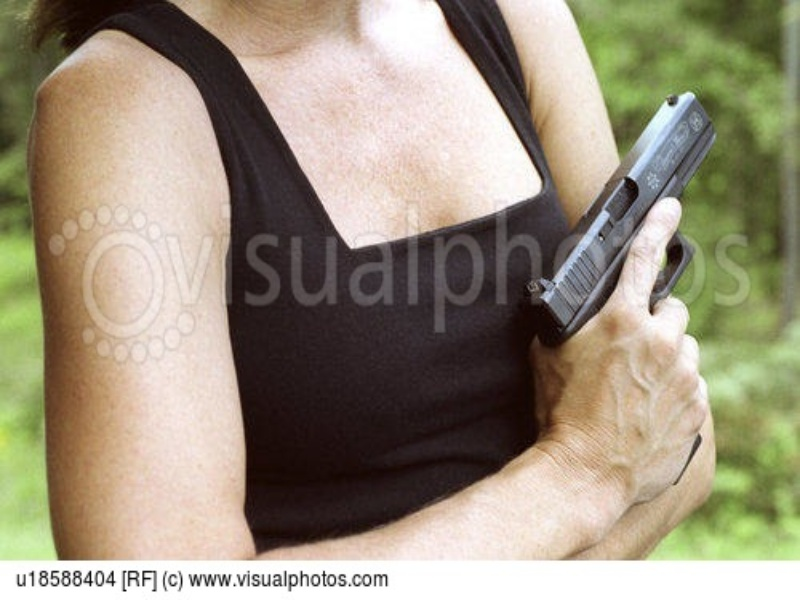gun: (505, 79, 736, 391)
